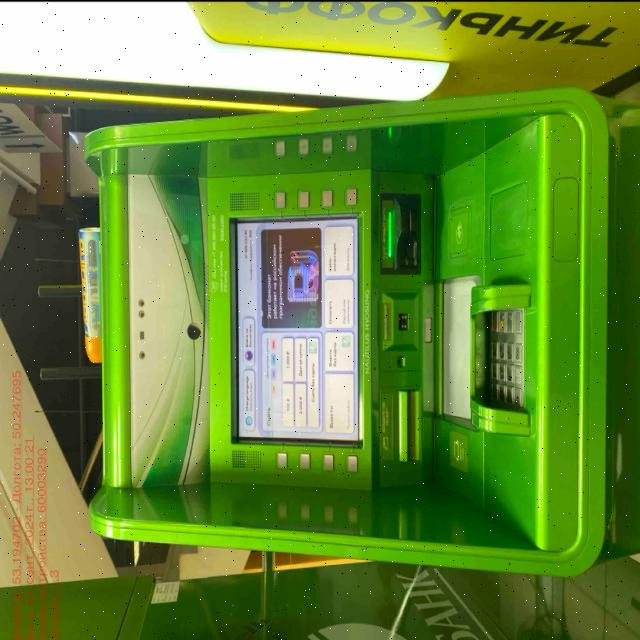bank: (94, 94, 640, 570), (0, 553, 640, 640)
